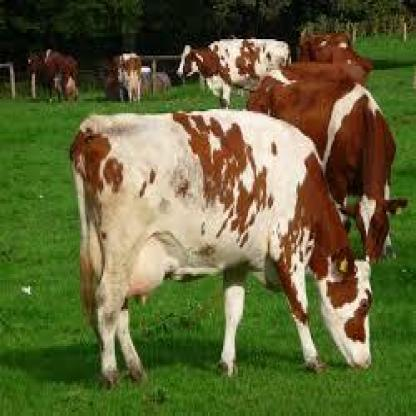cow: (70, 111, 374, 385), (246, 68, 405, 268), (176, 37, 292, 109), (298, 31, 374, 88), (25, 48, 80, 104), (112, 51, 143, 103)
